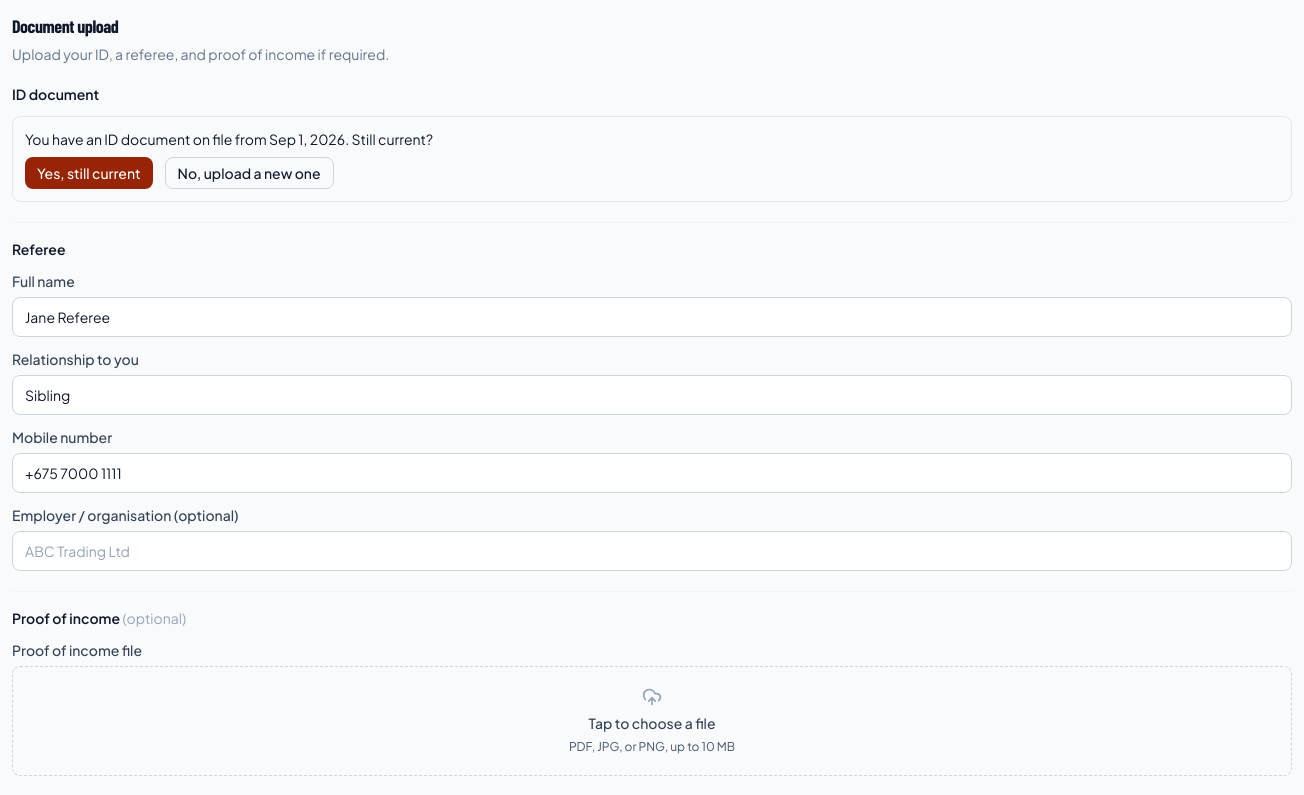
Test: DocumentUploadStep — existing document reuse (item 3) › falls back to a normal upload when the customer says the existing ID is no longer current
Click the button "No, upload a new one".
click(249, 173)  # box [165, 157, 334, 189]
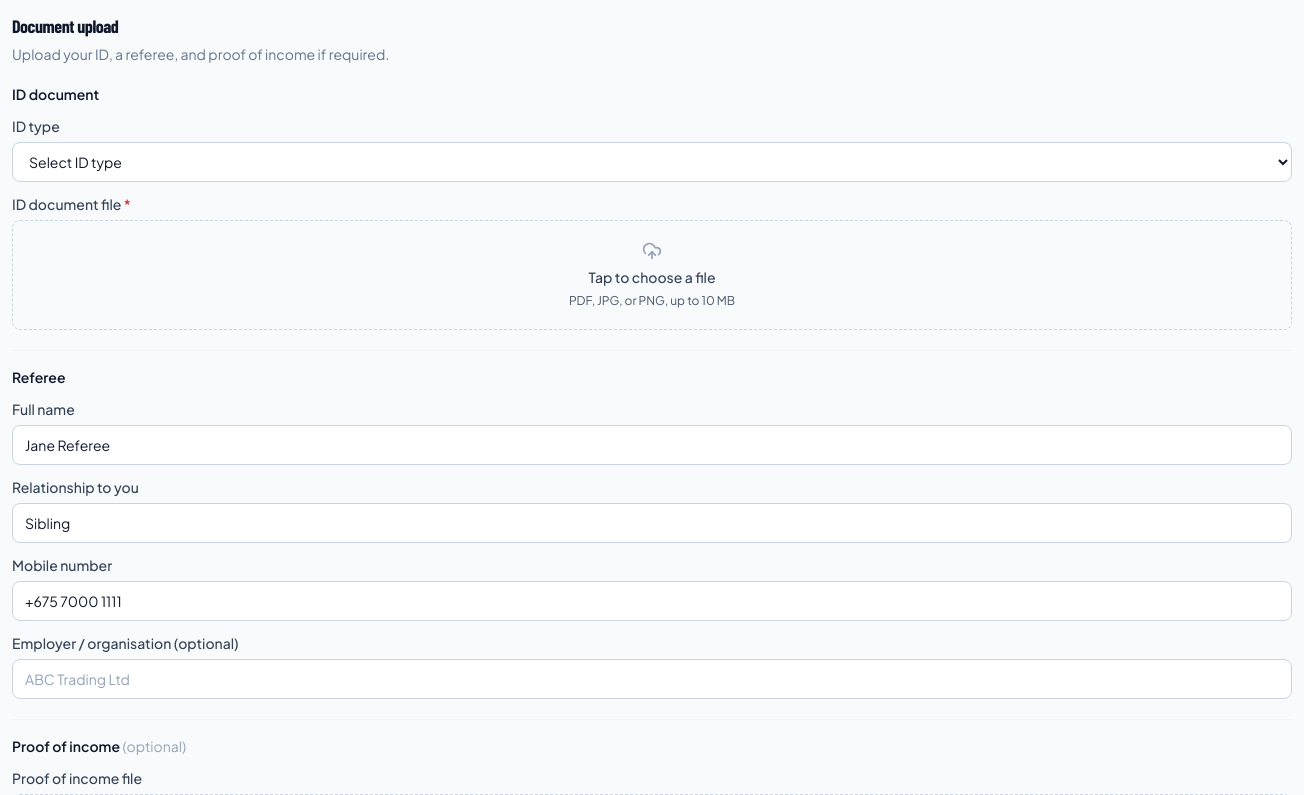
Expected: the dropdown labelled "ID type" is shown, [12, 142, 1292, 182]
Expected: the file field "ID document file *" is shown, [12, 195, 131, 213]
